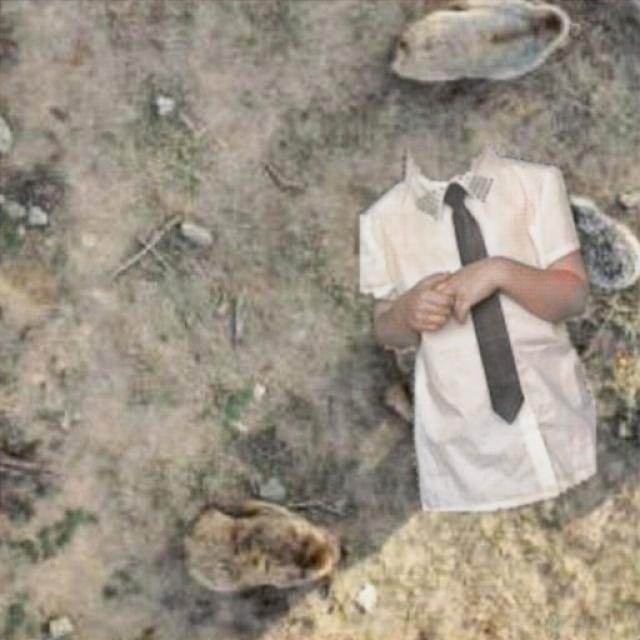Person in Rubble: (360, 145, 595, 510)
